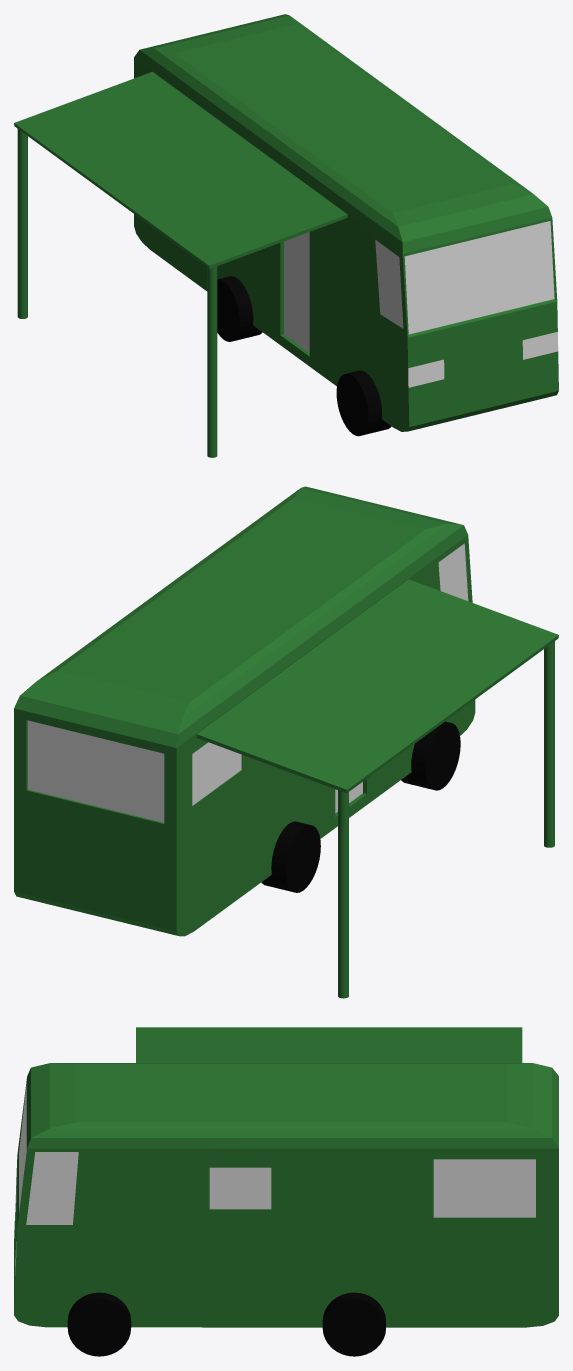
File: motorhome 3.fbx
3 renders of one model, top to bottom at view 1: azimuth 30°, elevation 25°; view 2: azimuth 150°, elevation 25°; view 3: azimuth 270°, elevation 25°, orthographic. The views are drawn at different scales.
Visible parts, largest first — view 1: Motorhome 3; view 2: Motorhome 3; view 3: Motorhome 3.
Boxes of the visible parts, x1,y1,x2,y2 form: Motorhome 3: [14, 14, 558, 457]; Motorhome 3: [14, 486, 558, 998]; Motorhome 3: [14, 1027, 558, 1356].
Size of the model in its own units: 565 by 413 by 892.
